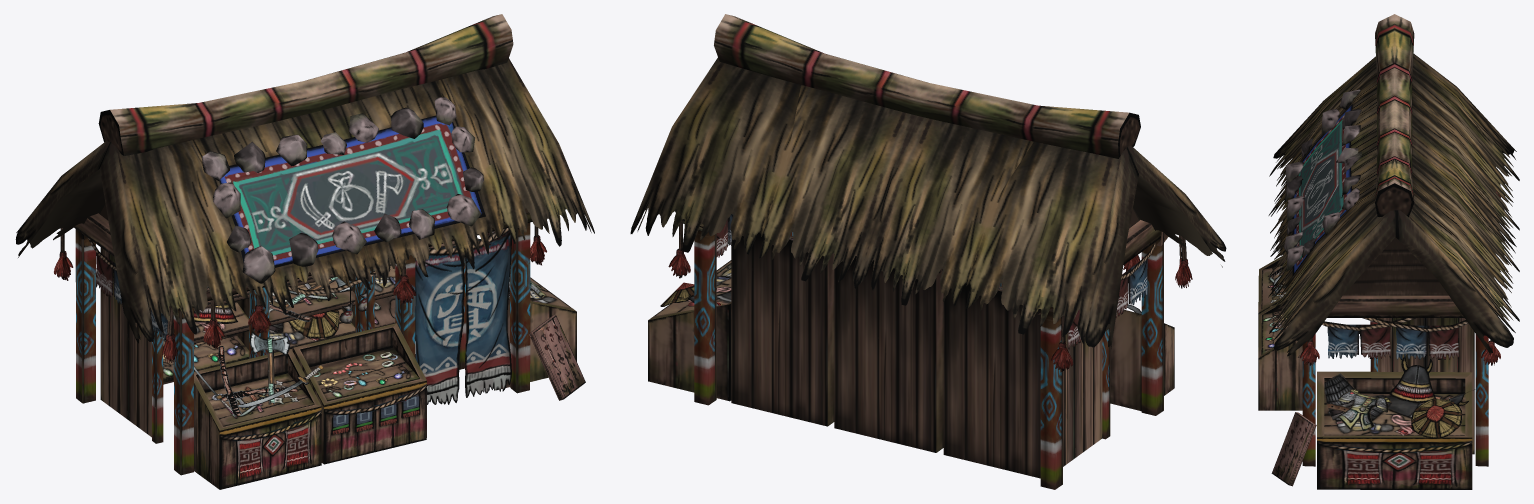
Rendered from STR_ShopItem.FBX.
The picture shows the model from 3 angles, left to right: view 1: azimuth 30°, elevation 25°; view 2: azimuth 150°, elevation 25°; view 3: azimuth 270°, elevation 25°; orthographic projection. The views are drawn at different scales.
Parts seen in each view (by area): view 1: STR_ShopItem; view 2: STR_ShopItem; view 3: STR_ShopItem.
Boxes of the visible parts, left/top/right/bottom form: STR_ShopItem: left=15, top=14, right=594, bottom=489; STR_ShopItem: left=630, top=14, right=1226, bottom=489; STR_ShopItem: left=1258, top=14, right=1519, bottom=489.
Size of the model in its own units: 680 by 467 by 374.
